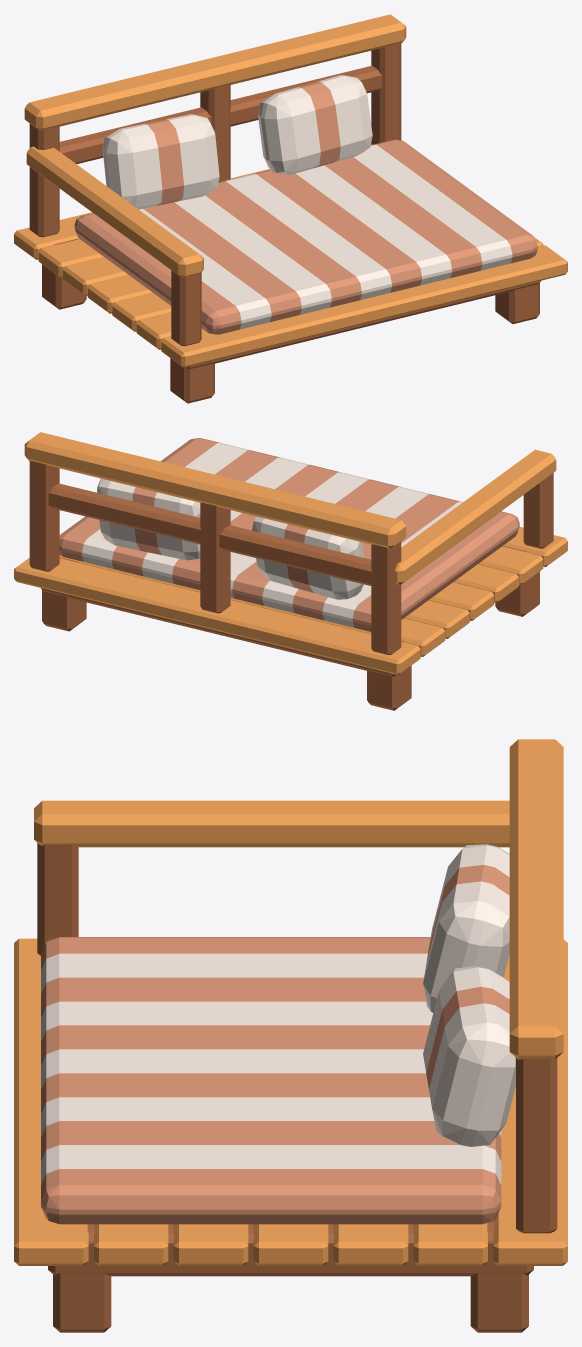
Rendered from beachBench.glb.
3 renders of one model, top to bottom at view 1: azimuth 30°, elevation 25°; view 2: azimuth 150°, elevation 25°; view 3: azimuth 270°, elevation 25°, orthographic. The views are drawn at different scales.
Parts seen in each view (by area): view 1: beachBench; view 2: beachBench; view 3: beachBench.
Part boxes in pixels (x1=…): beachBench: x1=14, y1=14, x2=567, y2=403; beachBench: x1=14, y1=432, x2=567, y2=710; beachBench: x1=14, y1=739, x2=567, y2=1332.
Size of the model in its own units: 2.56 by 1.21 by 1.95.
1 material, 1 textured.
